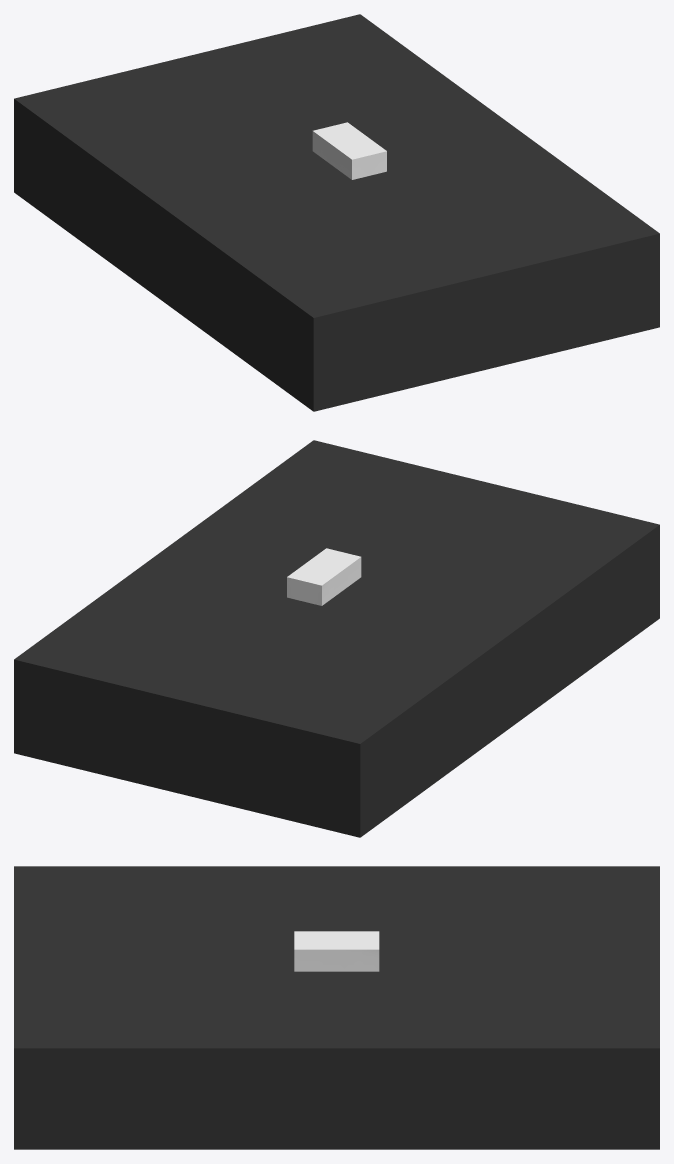
The model's file is pistareta.fbx.
The picture shows the model from 3 angles, top to bottom: view 1: azimuth 30°, elevation 25°; view 2: azimuth 150°, elevation 25°; view 3: azimuth 270°, elevation 25°; orthographic projection. The views are drawn at different scales.
Visible parts, largest first — view 1: Cube.002; view 2: Cube.002; view 3: Cube.002.
Part boxes in pixels (x1,y1,x2,y2): Cube.002: (14, 14, 659, 411); Cube.002: (14, 440, 659, 837); Cube.002: (14, 866, 659, 1149).
Size of the model in its own units: 131 by 41.9 by 197.
1 material, 1 textured.
